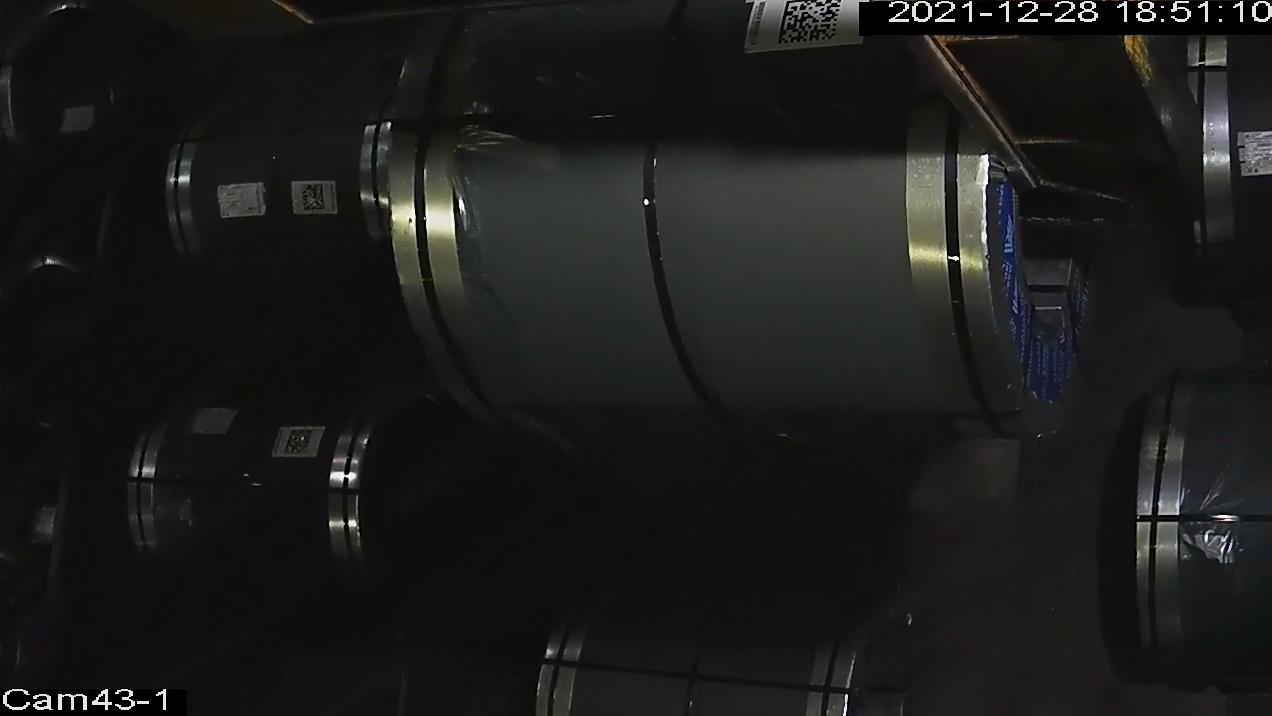data matrix: (279, 427, 317, 460), (299, 182, 330, 216)
